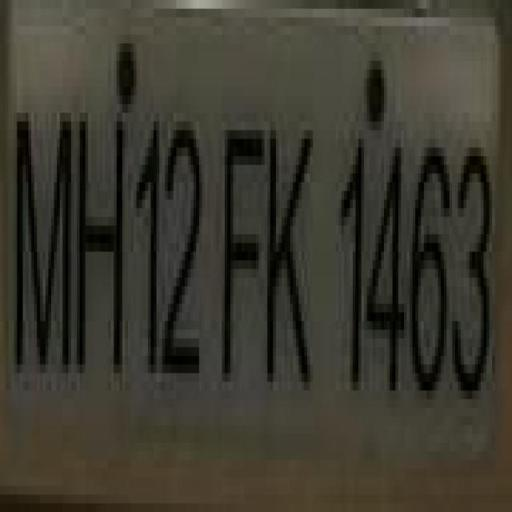number plate: (0, 8, 498, 486)
